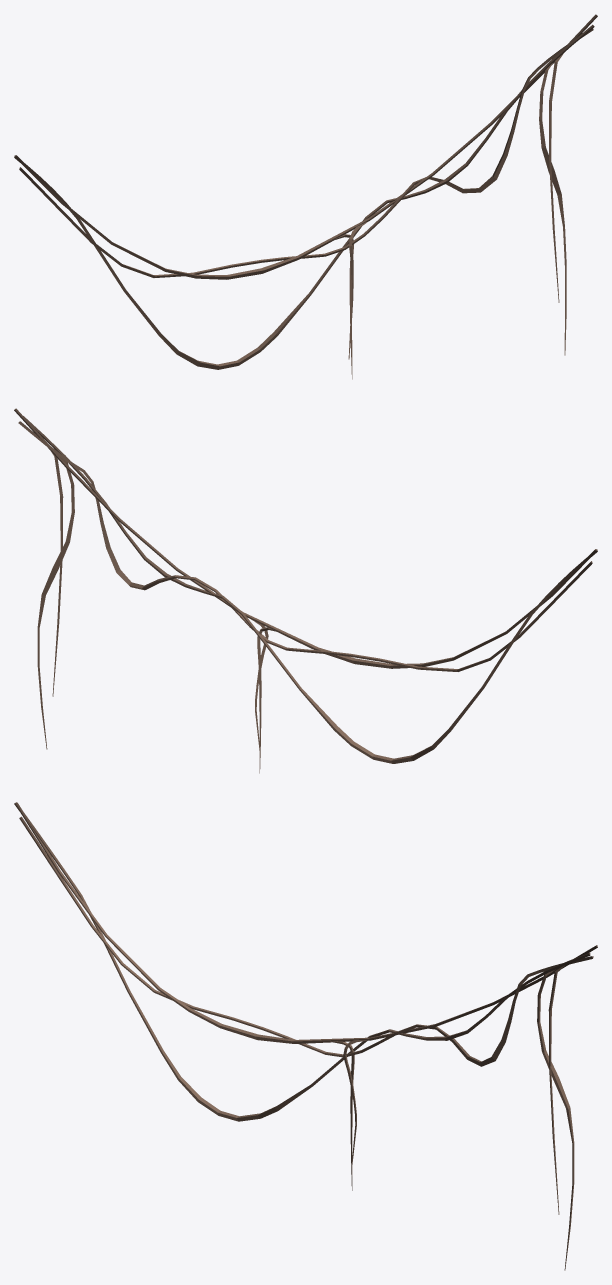
File: Jungle_HangingVines_C.fbx
The picture shows the model from 3 angles, top to bottom: view 1: azimuth 30°, elevation 25°; view 2: azimuth 150°, elevation 25°; view 3: azimuth 330°, elevation 25°; orthographic projection.
Parts seen in each view (by area): view 1: Jungle_HangingVines_C; view 2: Jungle_HangingVines_C; view 3: Jungle_HangingVines_C.
Boxes of the visible parts, x1,y1,x2,y2 form: Jungle_HangingVines_C: (14, 14, 597, 379); Jungle_HangingVines_C: (14, 408, 597, 773); Jungle_HangingVines_C: (14, 802, 597, 1270).
Bounding box in the file's own units: 17.01 × 9.3 × 0.5093.
